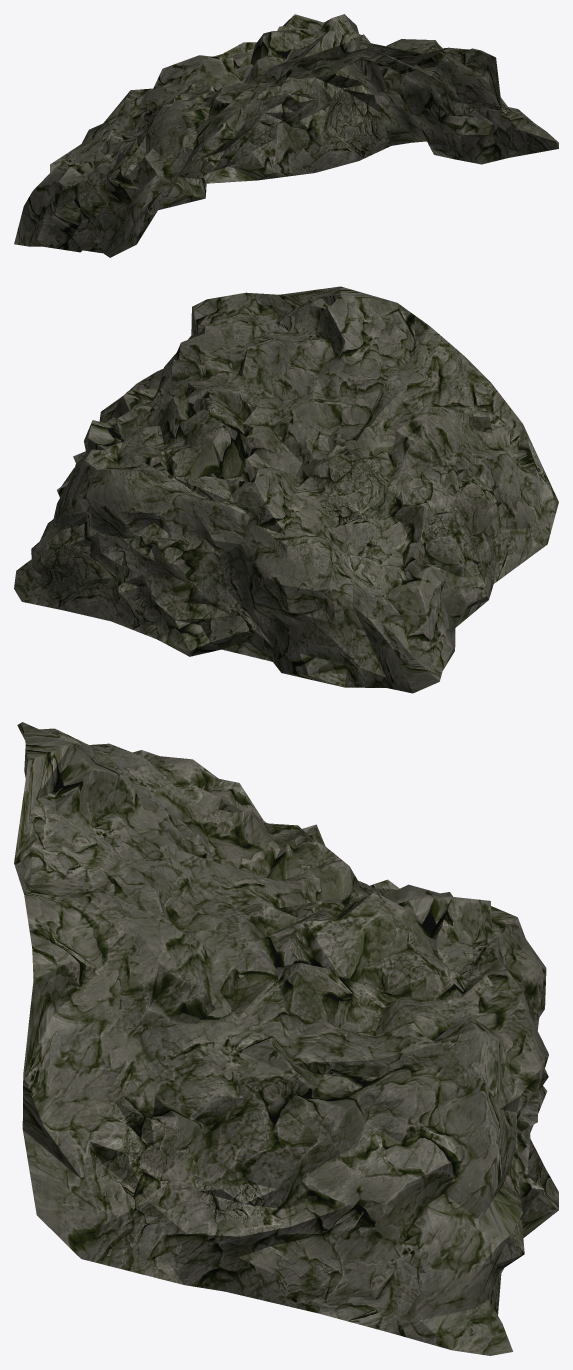
The model's file is TI_Cliff_03_d.fbx.
3 renders of one model, top to bottom at view 1: azimuth 30°, elevation 25°; view 2: azimuth 150°, elevation 25°; view 3: azimuth 270°, elevation 25°, orthographic. The views are drawn at different scales.
Parts seen in each view (by area): view 1: TI_Cliff_03_d; view 2: TI_Cliff_03_d; view 3: TI_Cliff_03_d.
Part boxes in pixels (x1,y1,x2,y2): TI_Cliff_03_d: (14,14,558,257); TI_Cliff_03_d: (14,286,558,693); TI_Cliff_03_d: (14,722,558,1355).
Size of the model in its own units: 11.14 by 6.15 by 6.7.
